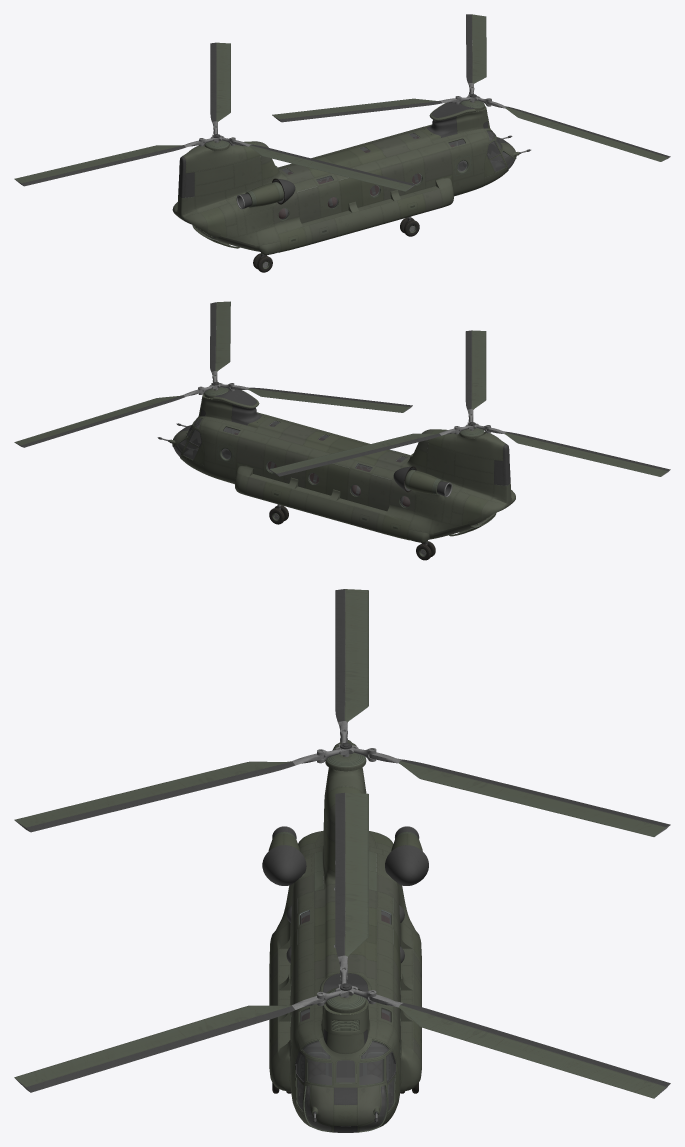
File: boeing_ch-47_chinook.glb
3 views of the same model, one above another, from view 1: azimuth 30°, elevation 25°; view 2: azimuth 150°, elevation 25°; view 3: azimuth 270°, elevation 25° (orthographic). The views are drawn at different scales.
Parts seen in each view (by area): view 1: Retopo_Cube.013, Cylinder.004, Cylinder.009, Retopo_Cube.017, Plane.067; view 2: Retopo_Cube.013, Cylinder.004, Cylinder.009, Retopo_Cube.017, Plane.067; view 3: Retopo_Cube.013, Cylinder.009, Cylinder.004, Retopo_Cube.017, Plane.067.
Part boxes in pixels (<box>): Retopo_Cube.013: <box>172,102,530,255</box>; Cylinder.004: <box>14,42,414,191</box>; Cylinder.009: <box>272,14,670,161</box>; Retopo_Cube.017: <box>278,131,515,219</box>; Plane.067: <box>283,131,511,218</box>; Retopo_Cube.013: <box>157,389,515,542</box>; Cylinder.004: <box>270,330,670,476</box>; Cylinder.009: <box>14,301,412,447</box>; Retopo_Cube.017: <box>173,418,410,507</box>; Plane.067: <box>177,419,405,506</box>; Retopo_Cube.013: <box>262,740,428,1132</box>; Cylinder.009: <box>14,792,670,1098</box>; Cylinder.004: <box>14,589,670,836</box>; Retopo_Cube.017: <box>286,887,404,1131</box>; Plane.067: <box>297,910,394,1129</box>.
Size of the model in its own units: 26.21 by 5.76 by 16.3.
4 materials, 3 textured.
